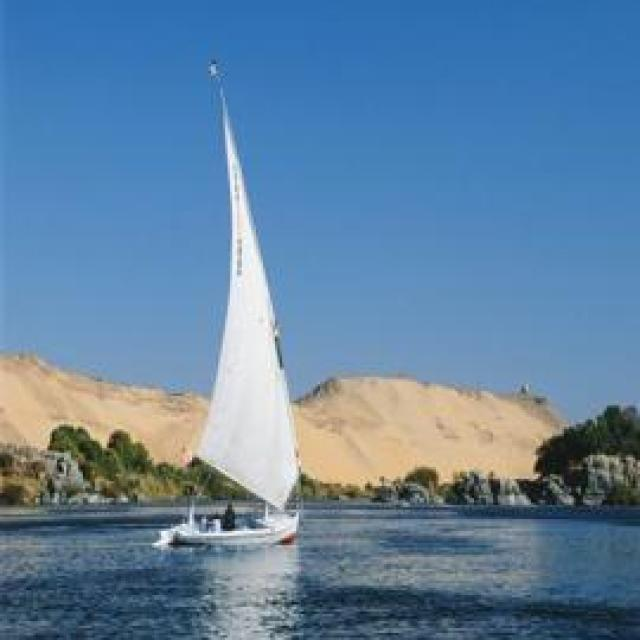sailboat: (154, 58, 312, 546)
